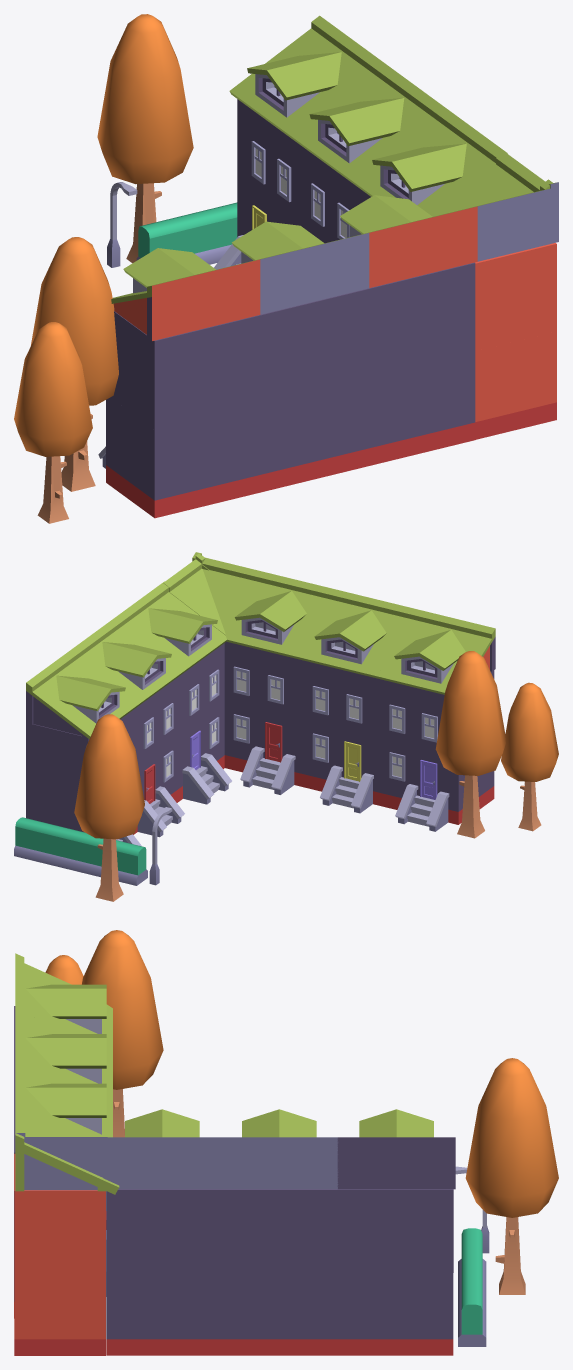
The model's file is wyrd_terraced_houses.glb.
3 views of the same model, one above another, from view 1: azimuth 30°, elevation 25°; view 2: azimuth 150°, elevation 25°; view 3: azimuth 270°, elevation 25° (orthographic). The views are drawn at different scales.
Visible parts, largest first — view 1: mergedBlocks(Clone); view 2: mergedBlocks(Clone); view 3: mergedBlocks(Clone).
Part boxes in pixels (x1,y1,x2,y2): mergedBlocks(Clone): (14, 14, 558, 523); mergedBlocks(Clone): (14, 552, 558, 901); mergedBlocks(Clone): (14, 930, 558, 1355).
Size of the model in its own units: 1.22 by 0.5501 by 1.19.
